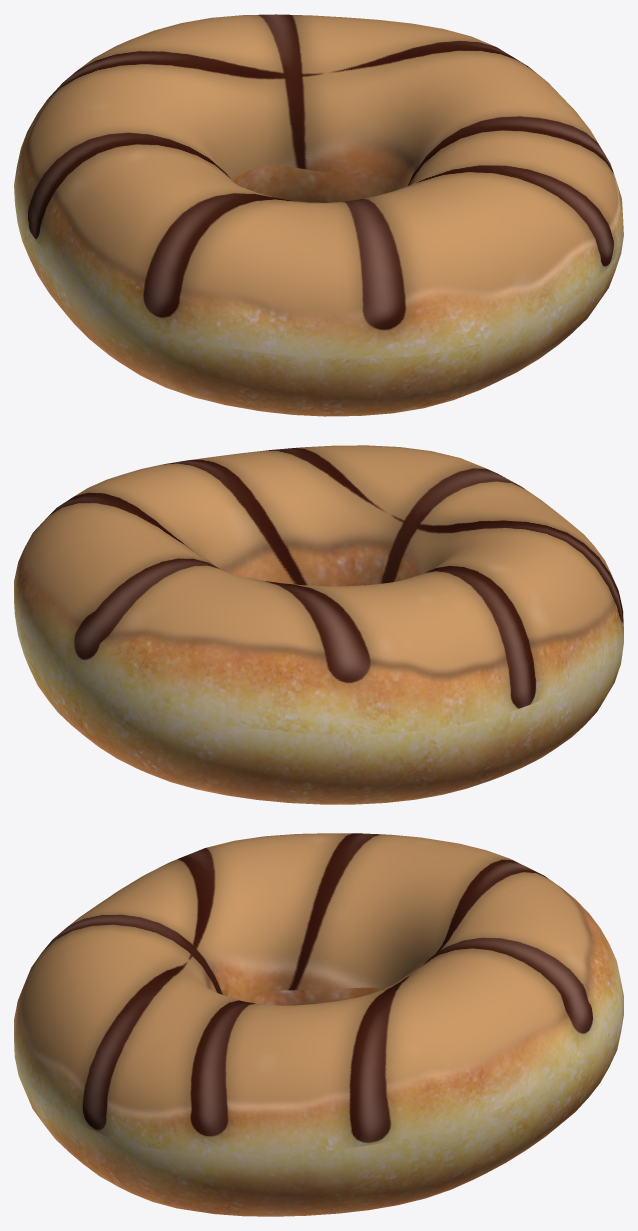
The model's file is Donut1.obj.
The picture shows the model from 3 angles, top to bottom: view 1: azimuth 30°, elevation 25°; view 2: azimuth 150°, elevation 25°; view 3: azimuth 270°, elevation 25°; orthographic projection.
Parts seen in each view (by area): view 1: donut084; view 2: donut084; view 3: donut084.
Part boxes in pixels (bbox=[...]): donut084: bbox=[14, 14, 623, 416]; donut084: bbox=[14, 445, 623, 804]; donut084: bbox=[14, 833, 623, 1216].
Size of the model in its own units: 9.35 by 3.88 by 9.66.
Materials: 1 (1 with a texture image).
